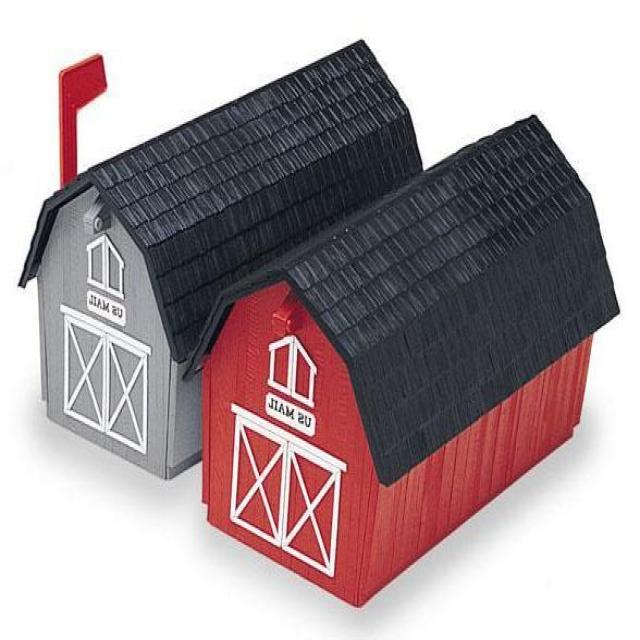Post Box: (179, 112, 623, 608), (15, 41, 427, 485)
